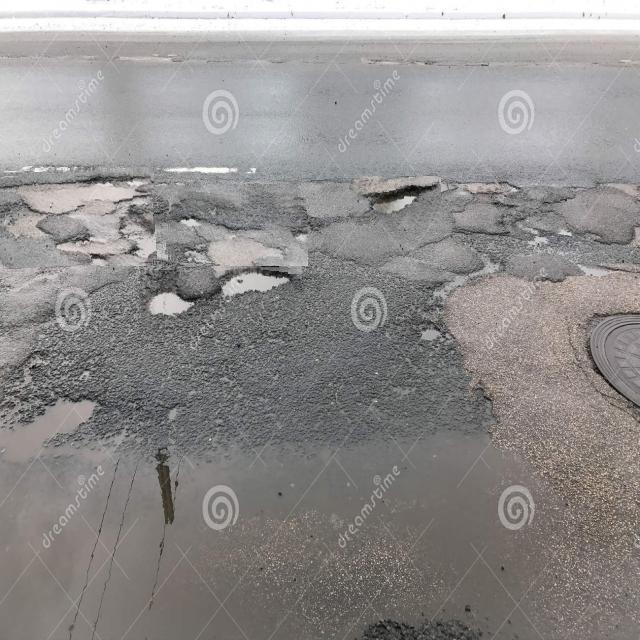Pothole: (0, 168, 155, 266), (167, 192, 308, 266), (139, 262, 302, 321), (350, 176, 441, 224)
